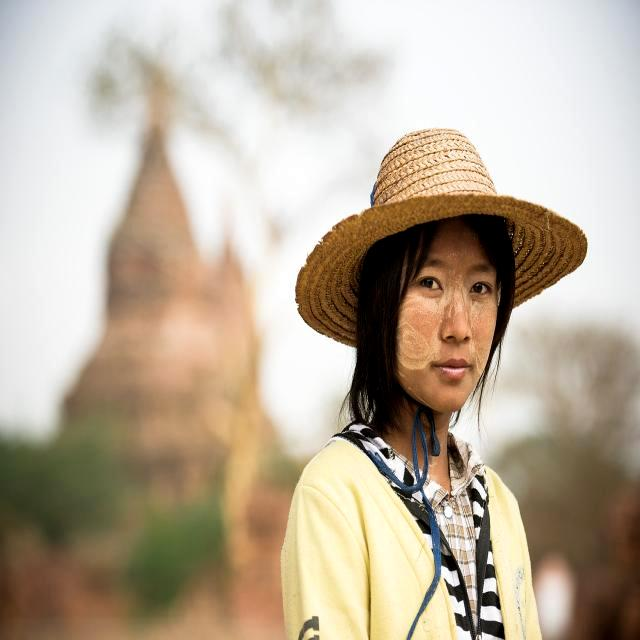no_hard_hat: (296, 128, 587, 346)
person: (282, 216, 540, 638)
